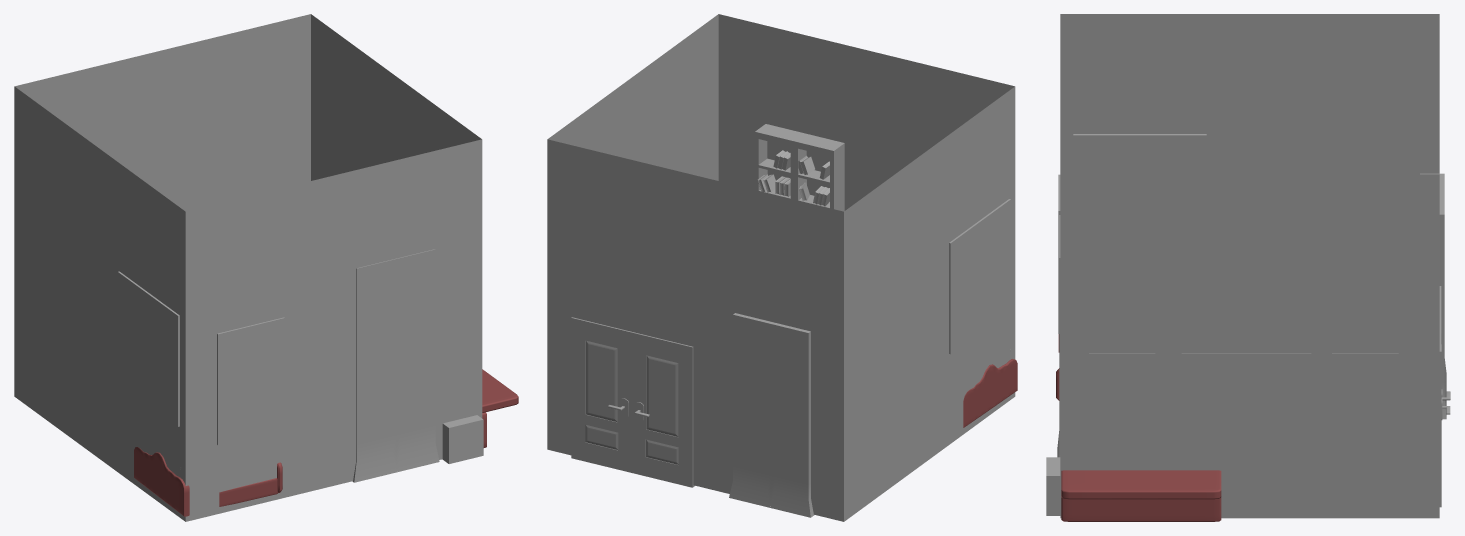
The model's file is room buttler.fbx.
3 renders of one model, left to right at view 1: azimuth 30°, elevation 25°; view 2: azimuth 150°, elevation 25°; view 3: azimuth 270°, elevation 25°, orthographic. The views are drawn at different scales.
Parts seen in each view (by area): view 1: pCube1, BOOKSHELF1, pCube17, pCube16, thing_for_head_of_bed, pCube27, bar_table_thingy, Matrass_uv_mapping; view 2: pCube1, BOOKSHELF, Mesh, door:Mesh, pCube16, BOOKSHELF1, thing_for_head_of_bed; view 3: pCube1, bar_table_thingy, pCube16, pCube22 (×3), BOOKSHELF, pCube27, door:Mesh, BOOKSHELF1.
Boxes of the visible parts, x1,y1,x2,y2 form: pCube1: (14, 14, 482, 521); BOOKSHELF1: (352, 249, 439, 482); pCube17: (217, 317, 284, 445); pCube16: (118, 271, 179, 426); thing_for_head_of_bed: (134, 447, 189, 516); pCube27: (442, 415, 483, 463); bar_table_thingy: (482, 369, 518, 447); Matrass_uv_mapping: (219, 478, 277, 506); pCube1: (547, 14, 1015, 521); BOOKSHELF: (729, 313, 814, 517); Mesh: (632, 332, 694, 487); door:Mesh: (571, 317, 632, 472); pCube16: (949, 199, 1010, 354); BOOKSHELF1: (755, 124, 844, 211); thing_for_head_of_bed: (963, 359, 1017, 427); pCube1: (1060, 14, 1439, 518); bar_table_thingy: (1061, 470, 1221, 521); pCube16: (1073, 134, 1206, 174); pCube22 (×3): (1089, 353, 1398, 370); BOOKSHELF: (1420, 173, 1446, 419); pCube27: (1046, 457, 1060, 515); door:Mesh: (1439, 318, 1450, 507); BOOKSHELF1: (1057, 215, 1060, 457).
Size of the model in its own units: 15.31 by 13.54 by 14.33.
